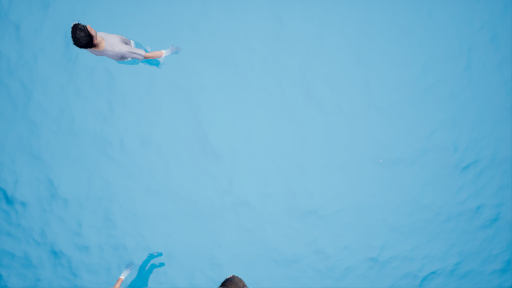person: (65, 13, 180, 82)
